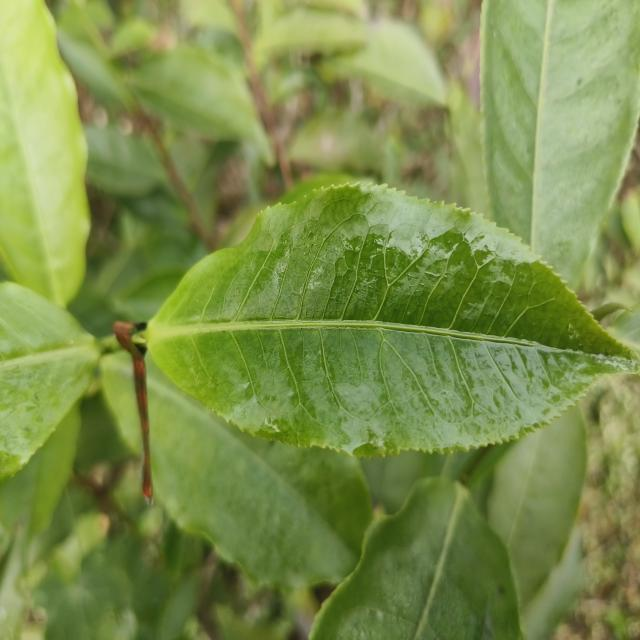Leaf: (146, 184, 640, 455), (146, 352, 372, 589), (481, 0, 640, 286), (310, 477, 522, 640), (0, 0, 90, 306), (488, 407, 586, 607), (0, 283, 99, 479), (125, 45, 274, 164), (0, 405, 80, 541), (325, 19, 446, 105), (84, 126, 166, 197), (289, 109, 382, 171), (254, 8, 368, 57), (100, 351, 140, 453)
